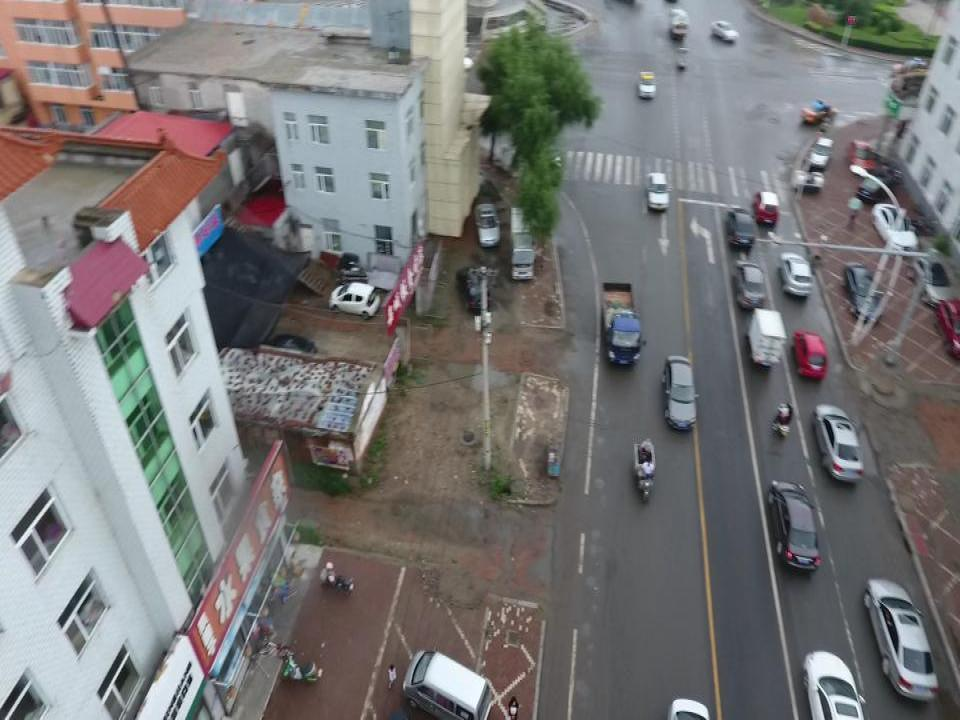car: (862, 578, 937, 702), (767, 480, 821, 571), (801, 650, 865, 720), (811, 403, 863, 484), (870, 197, 919, 259), (662, 356, 698, 432), (840, 261, 883, 324), (258, 334, 316, 378), (910, 253, 953, 308), (330, 284, 380, 319), (455, 267, 490, 313), (776, 255, 813, 298), (735, 261, 767, 307), (857, 170, 895, 206), (936, 299, 960, 356), (726, 205, 755, 251), (846, 136, 874, 181), (890, 56, 934, 83), (799, 98, 839, 126), (475, 203, 501, 245), (645, 173, 672, 211), (810, 135, 834, 169), (710, 20, 739, 43), (637, 70, 657, 99)
truck: (601, 281, 647, 368), (744, 308, 787, 371), (509, 208, 535, 276), (668, 9, 689, 40)
van: (402, 646, 493, 720)
